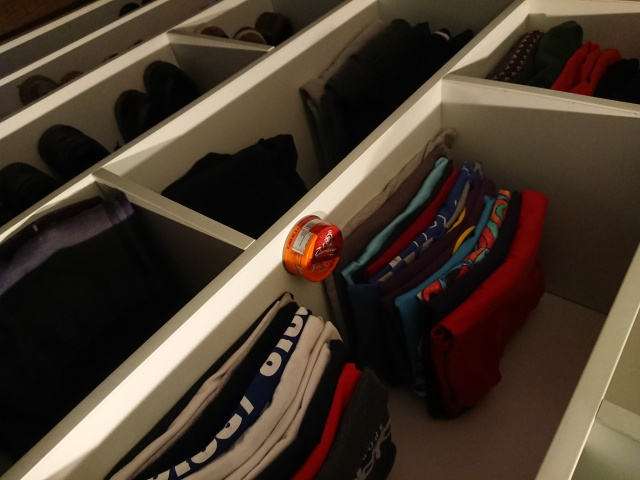Gavrilovic Pork Liver Pate 100g: (278, 213, 344, 284)
